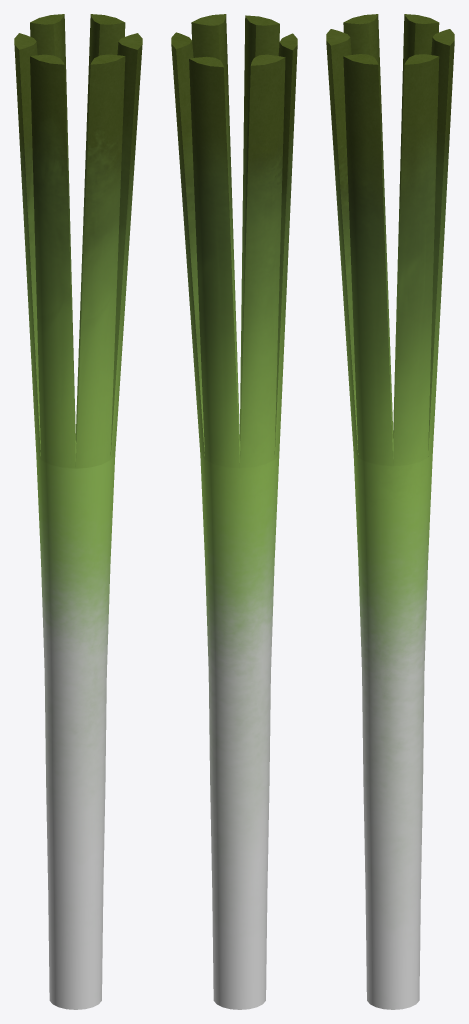
Rendered from minamiaizu.glb.
3 views of the same model, side by side, from view 1: azimuth 90°, elevation 25°; view 2: azimuth 210°, elevation 25°; view 3: azimuth 270°, elevation 25° (orthographic).
Visible parts, largest first — view 1: Leek; view 2: Leek; view 3: Leek.
Part boxes in pixels (x1,y1,x2,y2): Leek: (14, 14, 142, 1009); Leek: (171, 14, 297, 1009); Leek: (326, 14, 454, 1009).
Size of the model in its own units: 10.09 by 88.9 by 10.78.
1 material, 1 textured.
